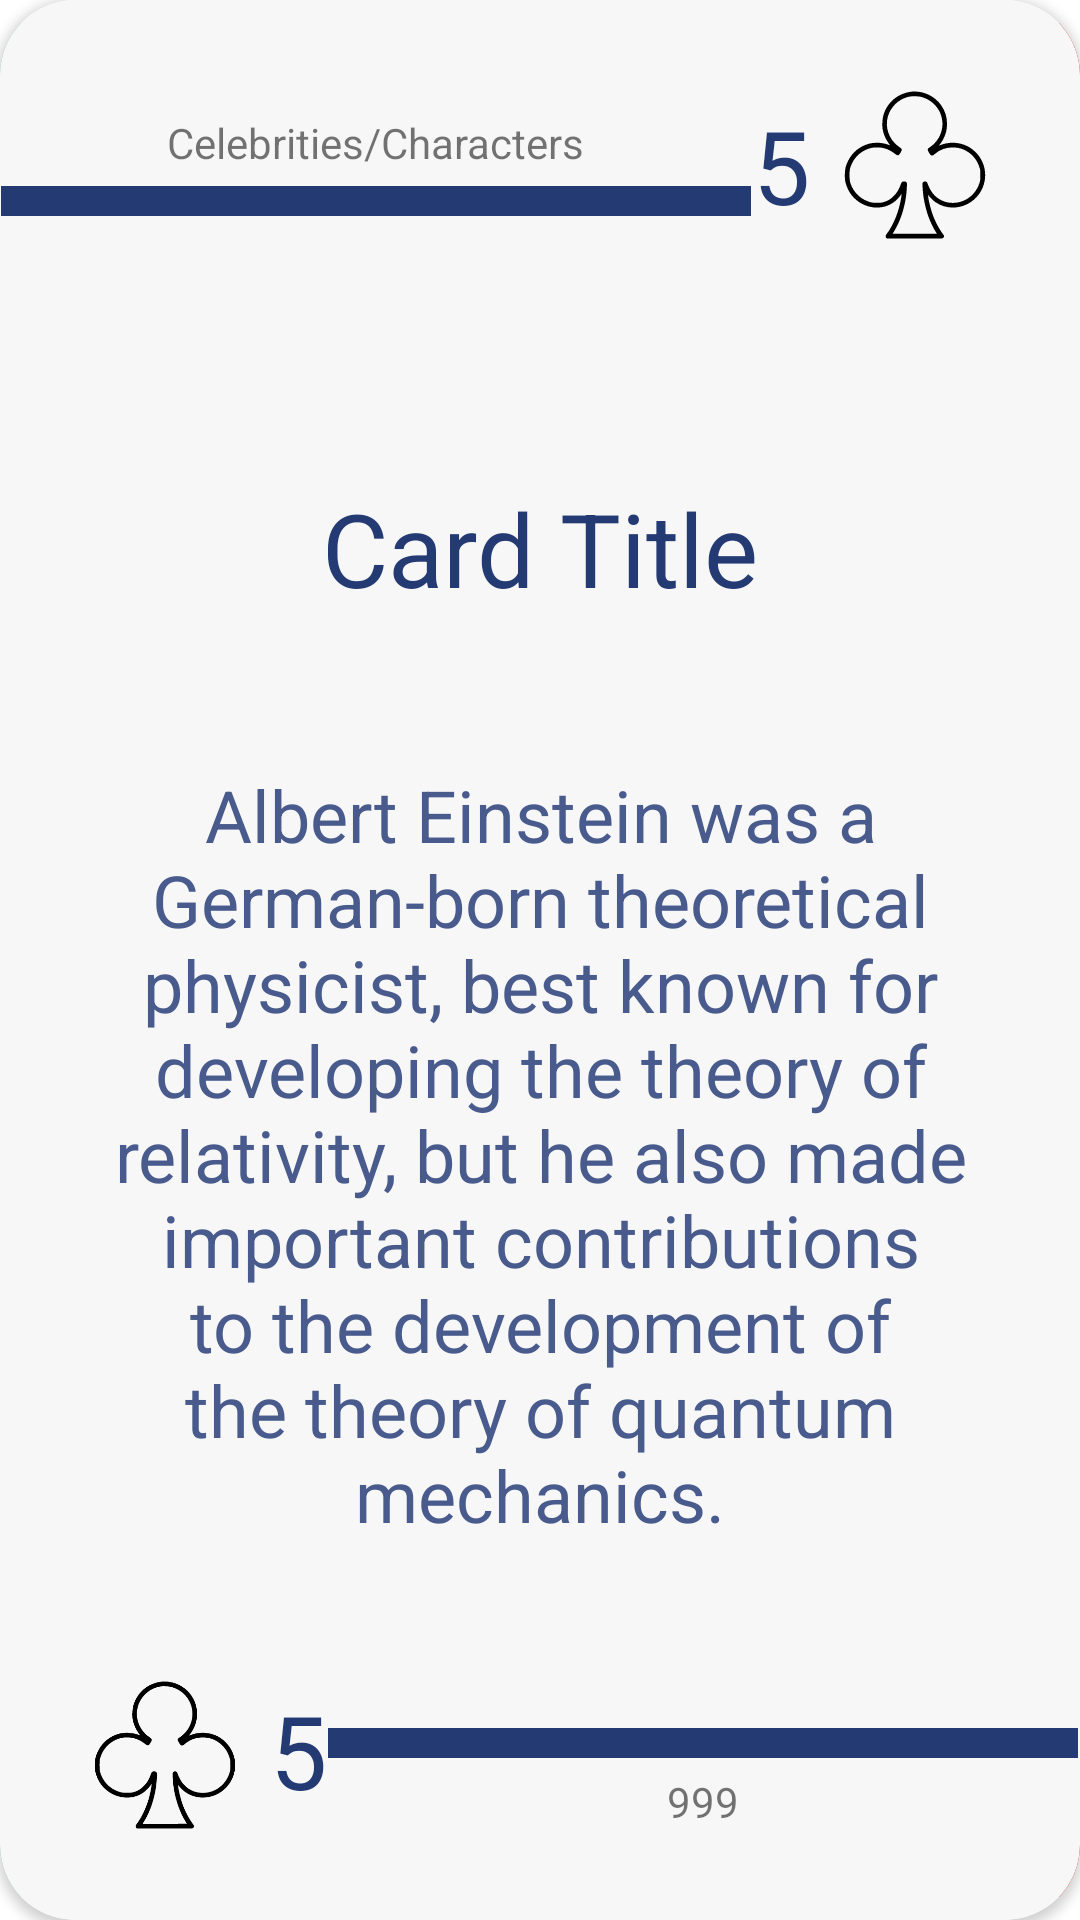

Screen size 1080px x 1920px. Icon name, then its box in pixels as box=[x1, y1, x2, y2]:
Corner symbol that represents the category of the card: box=[844, 91, 986, 239], box=[95, 1681, 235, 1829]
